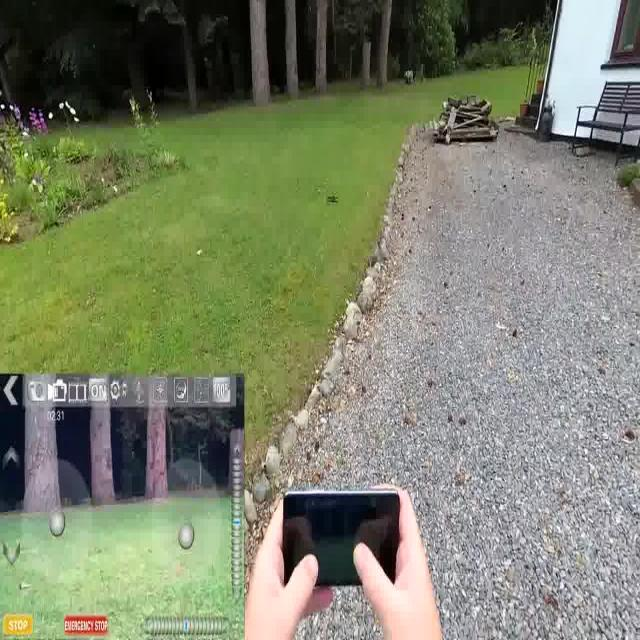drones: (326, 192, 340, 209)
